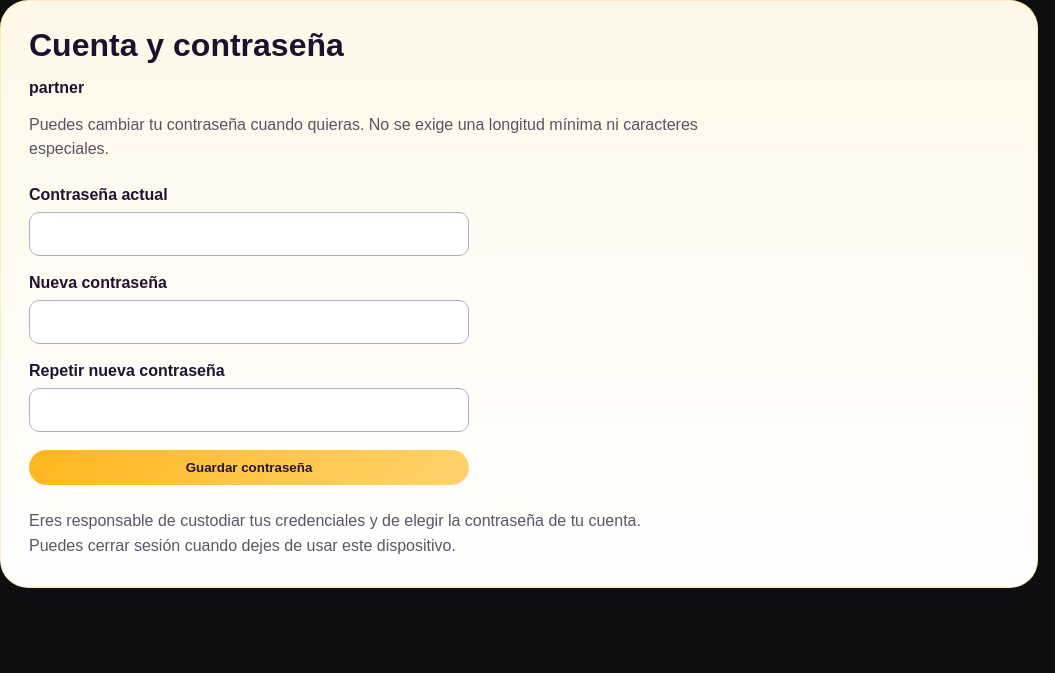
Test: incorrect current password shows an error without logging out
Type "partner" into the password field labelled "Contraseña actual" at (249, 234), box [29,212,469,256]
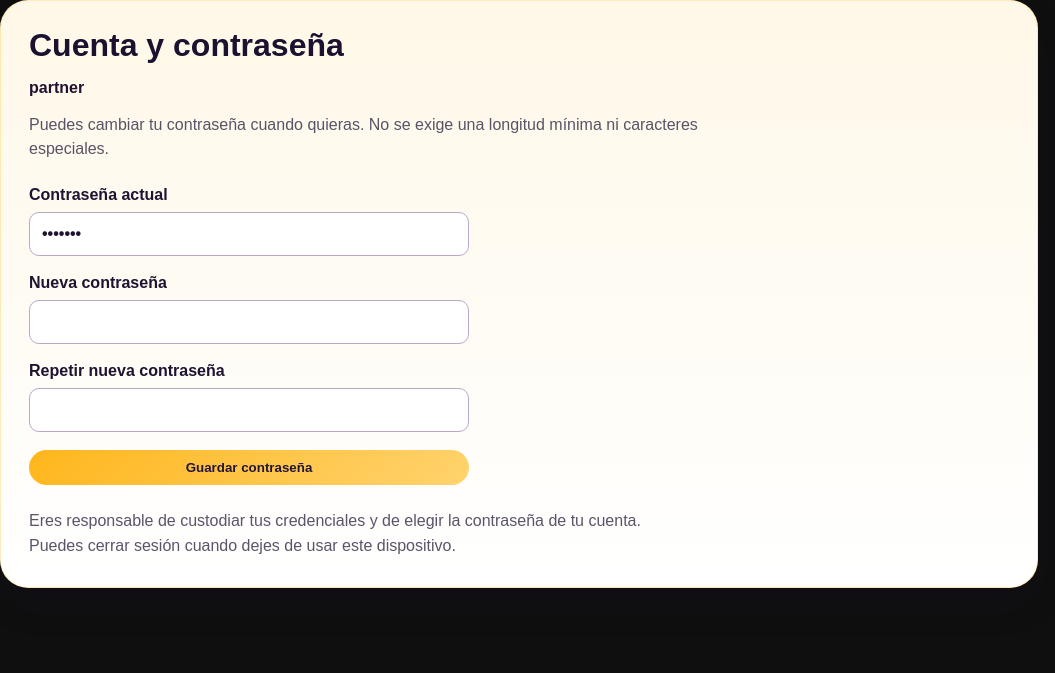
Type "abc" into the password field labelled "Nueva contraseña" at (249, 322), box [29,300,469,344]
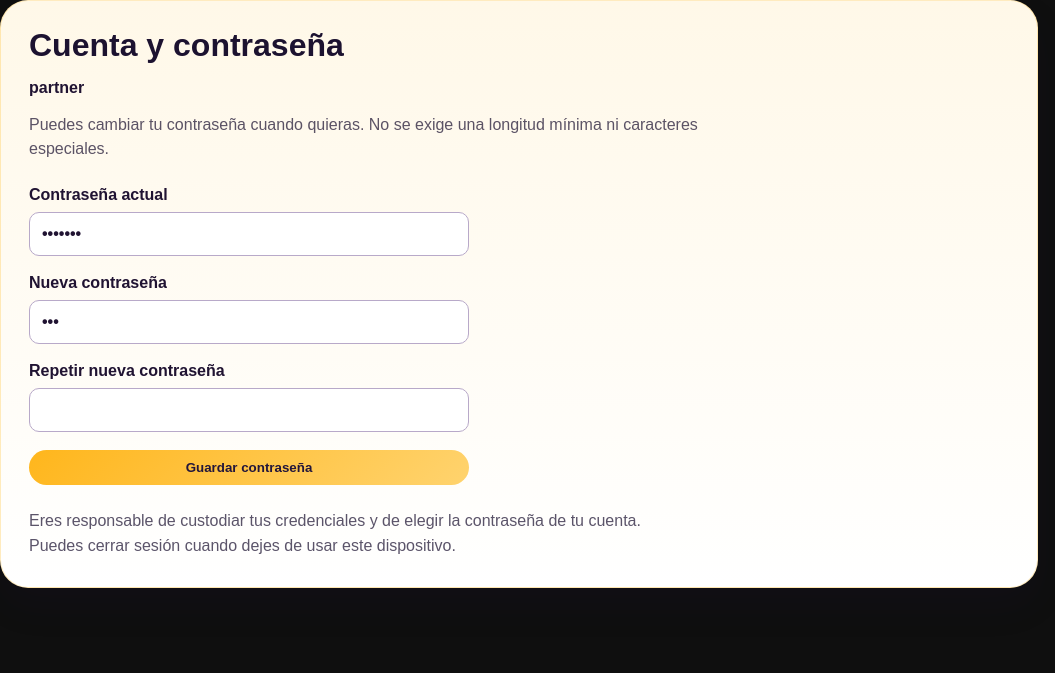
Type "abc" into the password field labelled "Repetir nueva contraseña" at (249, 410), box [29,388,469,432]
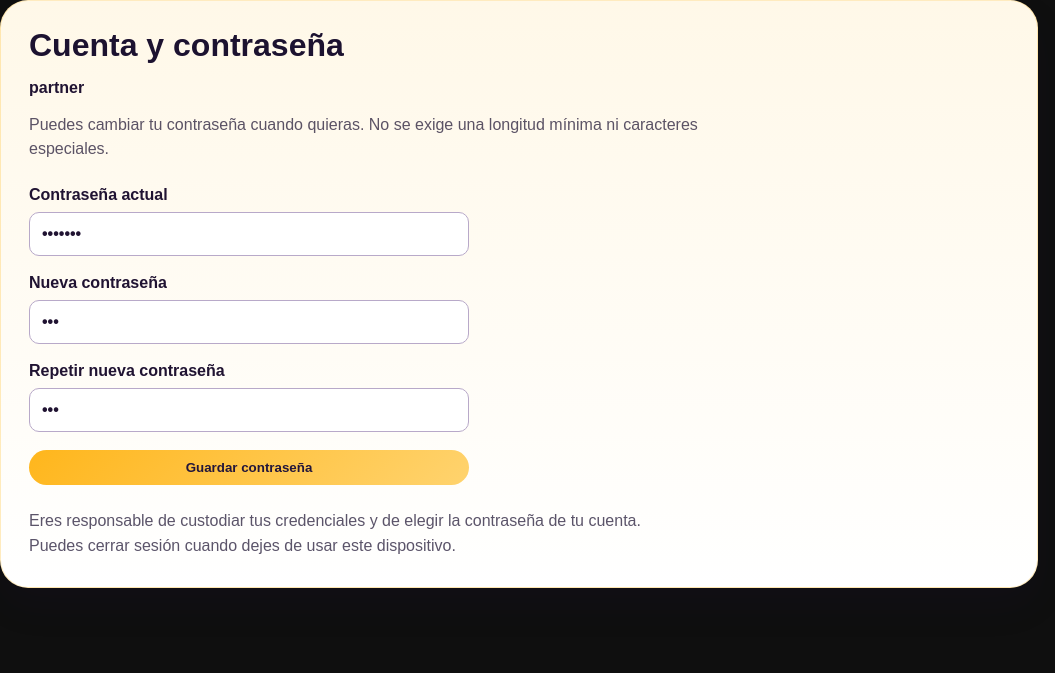
Click the button "Guardar contraseña" at (249, 468), box [29,450,469,485]
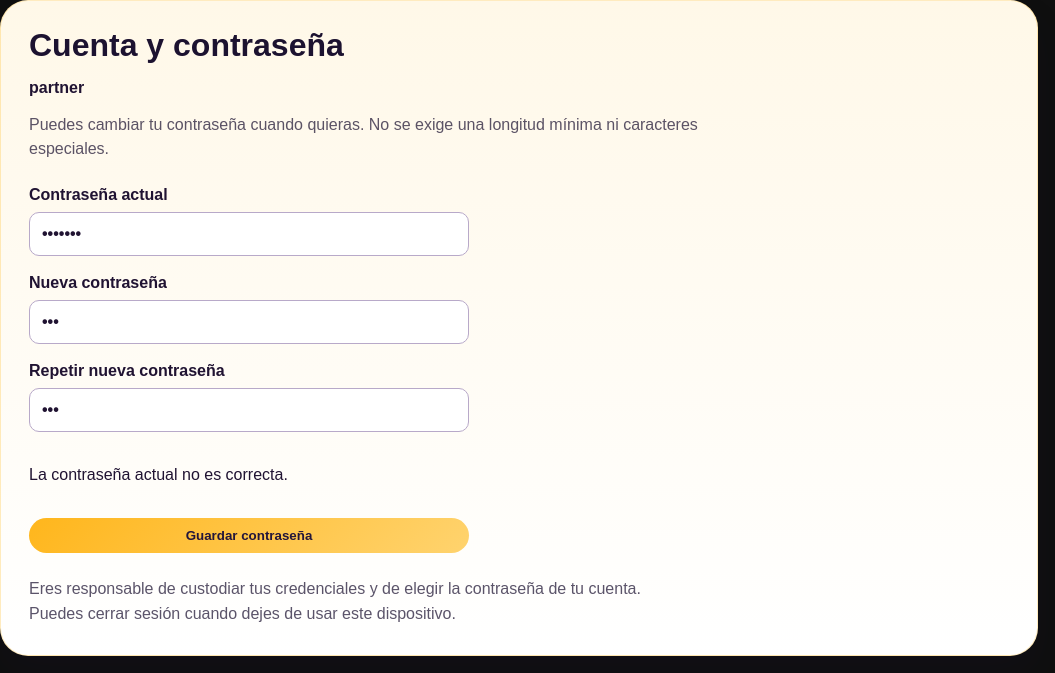
Now the message shows "actual no es correcta", box [29,466,288,483]
